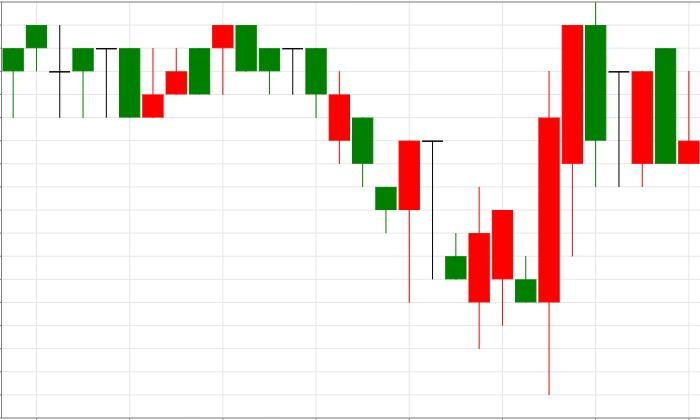bullish_engulfing_rise: (236, 25, 420, 303)
inverse_hammer_rise: (26, 25, 164, 118)
